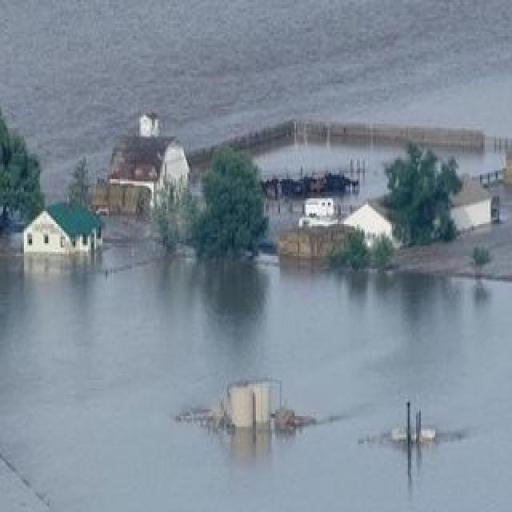flood: (0, 247, 512, 512), (0, 0, 512, 203), (255, 143, 401, 216), (398, 186, 512, 277), (433, 143, 506, 177), (192, 166, 200, 192)
house: (112, 110, 190, 218), (27, 202, 101, 270), (442, 172, 494, 230), (343, 198, 398, 246)
